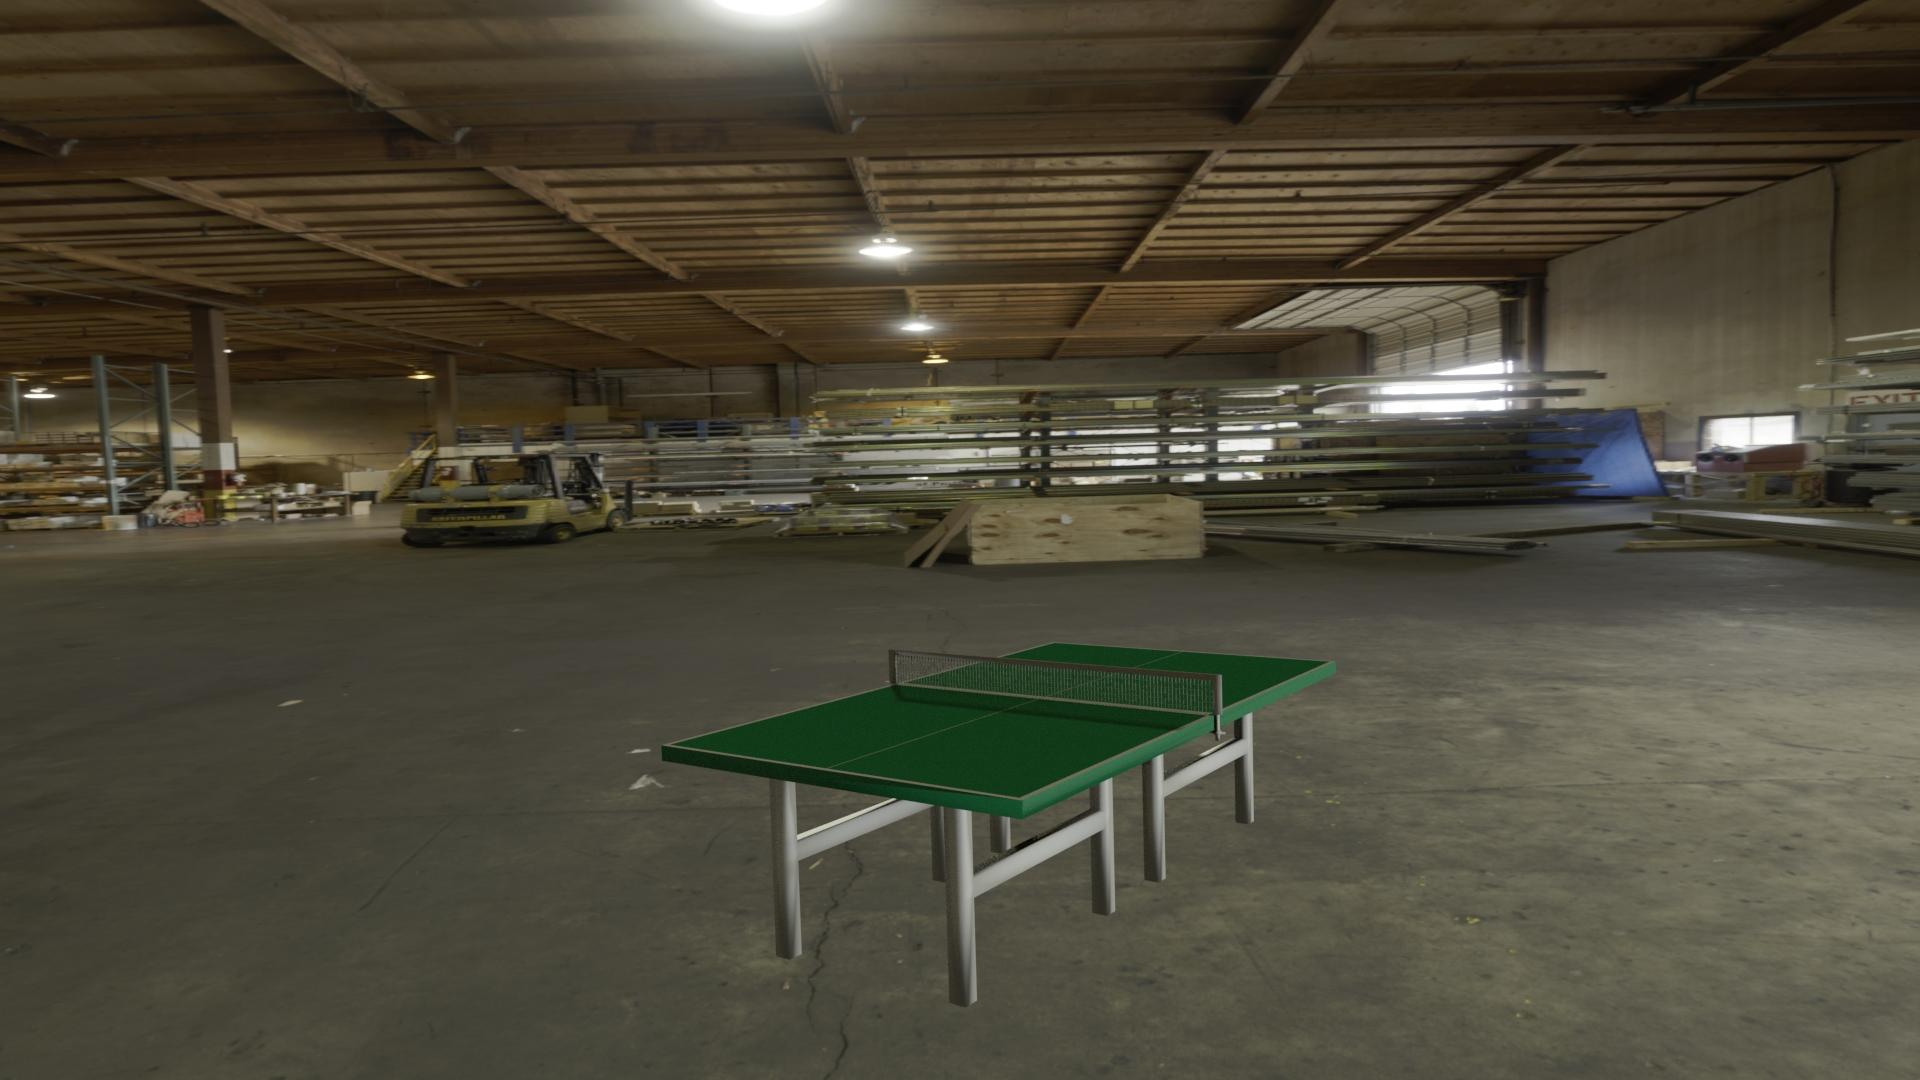table: (669, 643, 1330, 798)
